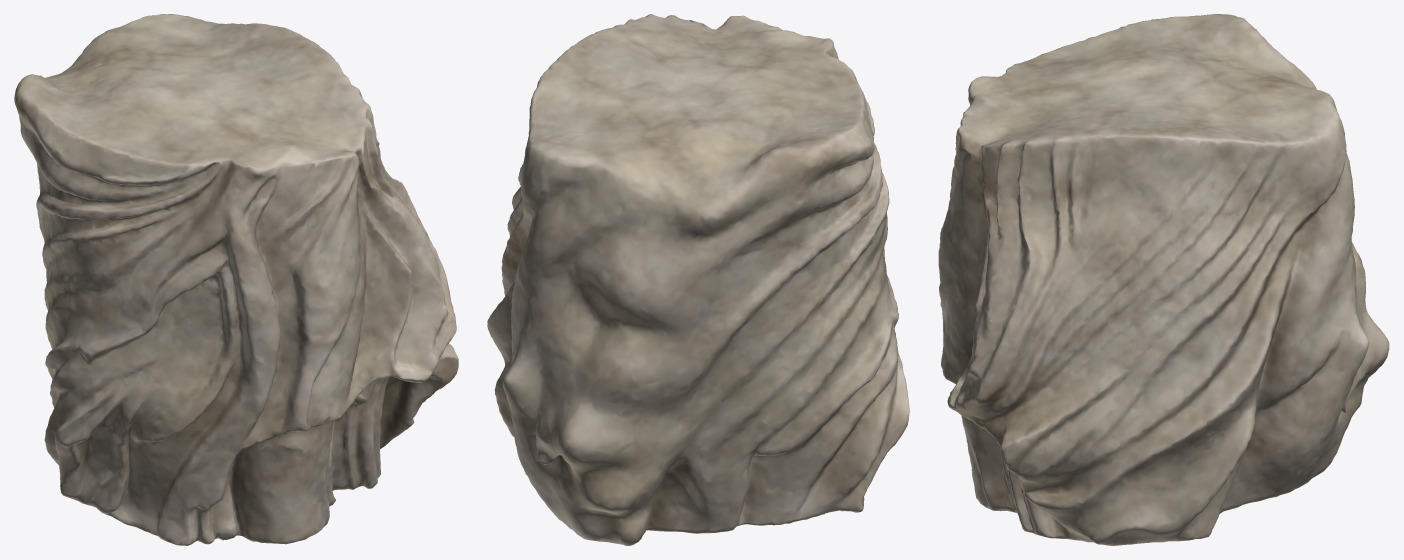
Rendered from 06_ESC_italica.glb.
3 views of the same model, side by side, from view 1: azimuth 30°, elevation 25°; view 2: azimuth 150°, elevation 25°; view 3: azimuth 270°, elevation 25° (orthographic). The views are drawn at different scales.
Parts seen in each view (by area): view 1: ITALICA_LP; view 2: ITALICA_LP; view 3: ITALICA_LP.
Part boxes in pixels (x1,y1,x2,y2): ITALICA_LP: [14, 14, 458, 545]; ITALICA_LP: [487, 14, 909, 545]; ITALICA_LP: [938, 14, 1389, 545].
Bounding box in the file's own units: 0.4117 × 0.4558 × 0.4454.
1 material, 1 textured.
